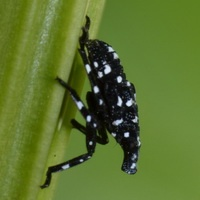insect: (41, 16, 139, 187)
